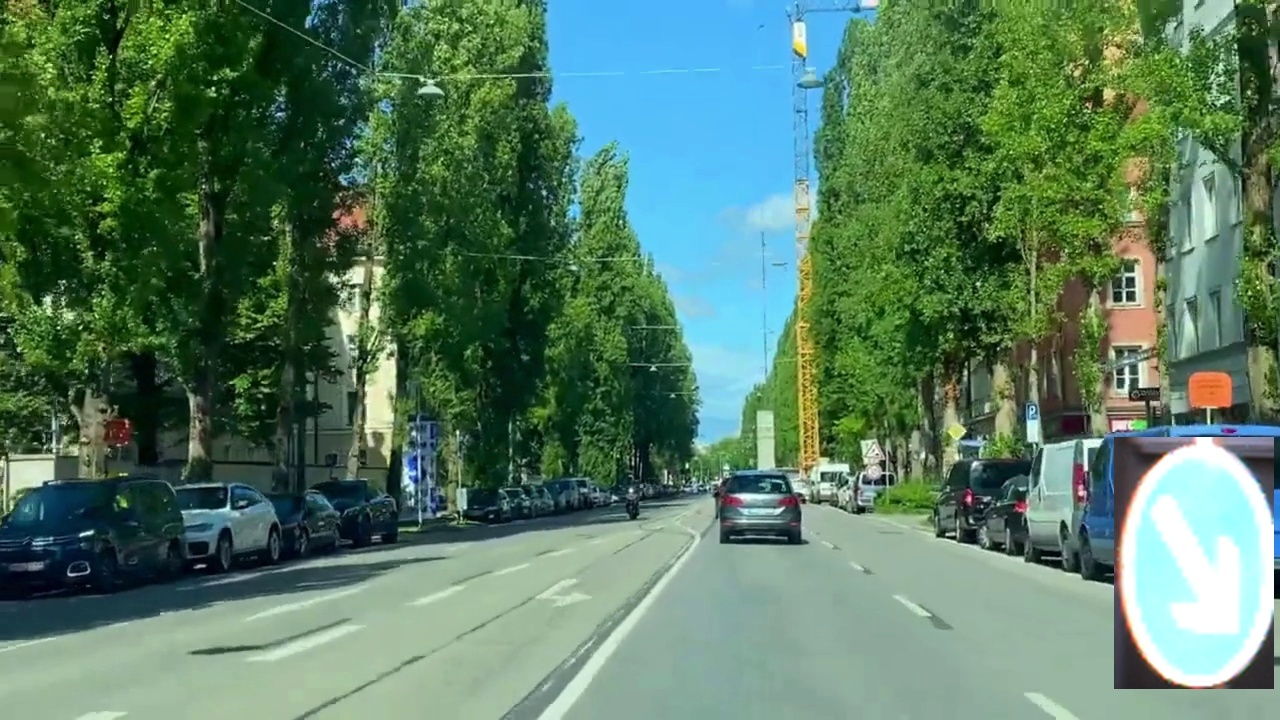Keep right: (1114, 437, 1274, 689)
